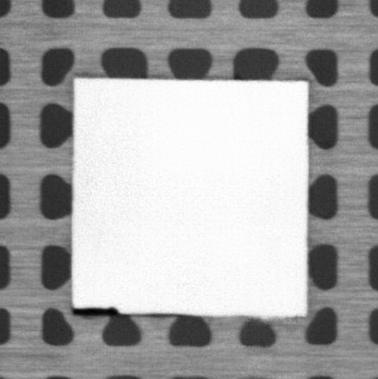DIE_BROKEN: (71, 306, 120, 316)
